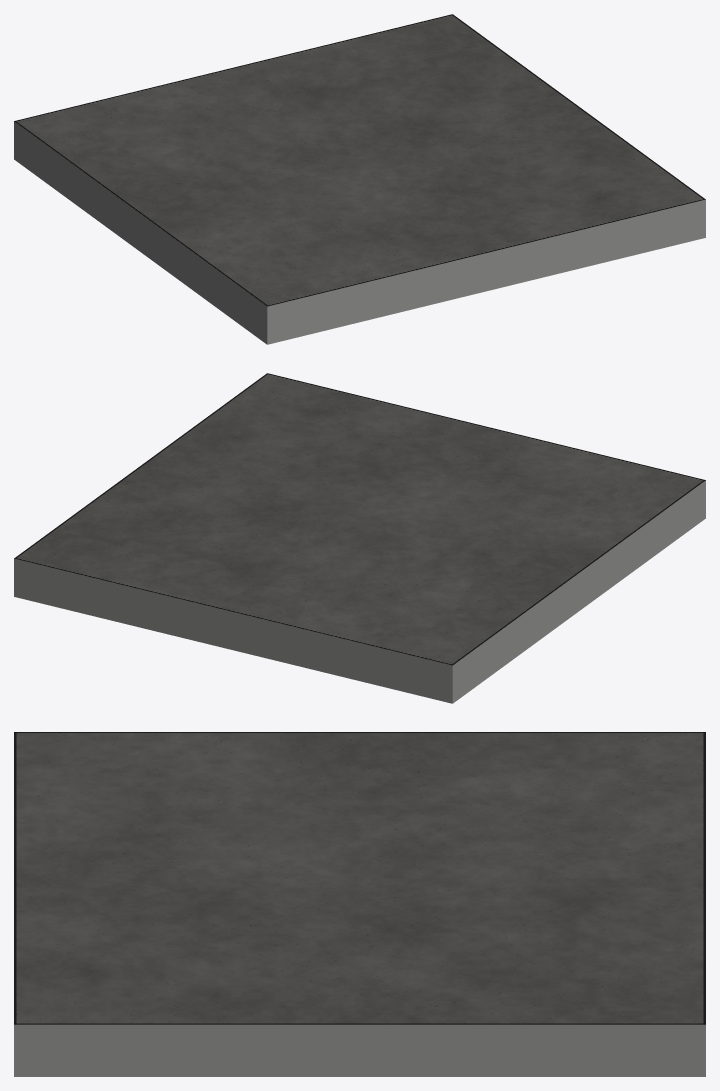
Rendered from Tile_Concrete_1200.glb.
3 views of the same model, one above another, from view 1: azimuth 30°, elevation 25°; view 2: azimuth 150°, elevation 25°; view 3: azimuth 270°, elevation 25° (orthographic). The views are drawn at different scales.
Parts seen in each view (by area): view 1: Top, Body; view 2: Top, Body; view 3: Top, Body.
Part boxes in pixels (x1=…): Top: x1=14, y1=14, x2=705, y2=306; Body: x1=14, y1=121, x2=705, y2=344; Top: x1=14, y1=373, x2=705, y2=665; Body: x1=14, y1=480, x2=705, y2=703; Top: x1=14, y1=732, x2=705, y2=1024; Body: x1=14, y1=1024, x2=705, y2=1076.
Bounding box in the file's own units: 1.2 × 0.1001 × 1.2.
2 materials, 1 textured.
